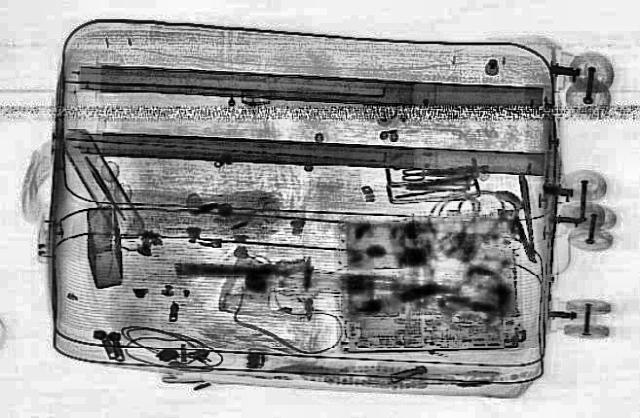Scissors: (398, 165, 458, 181)
